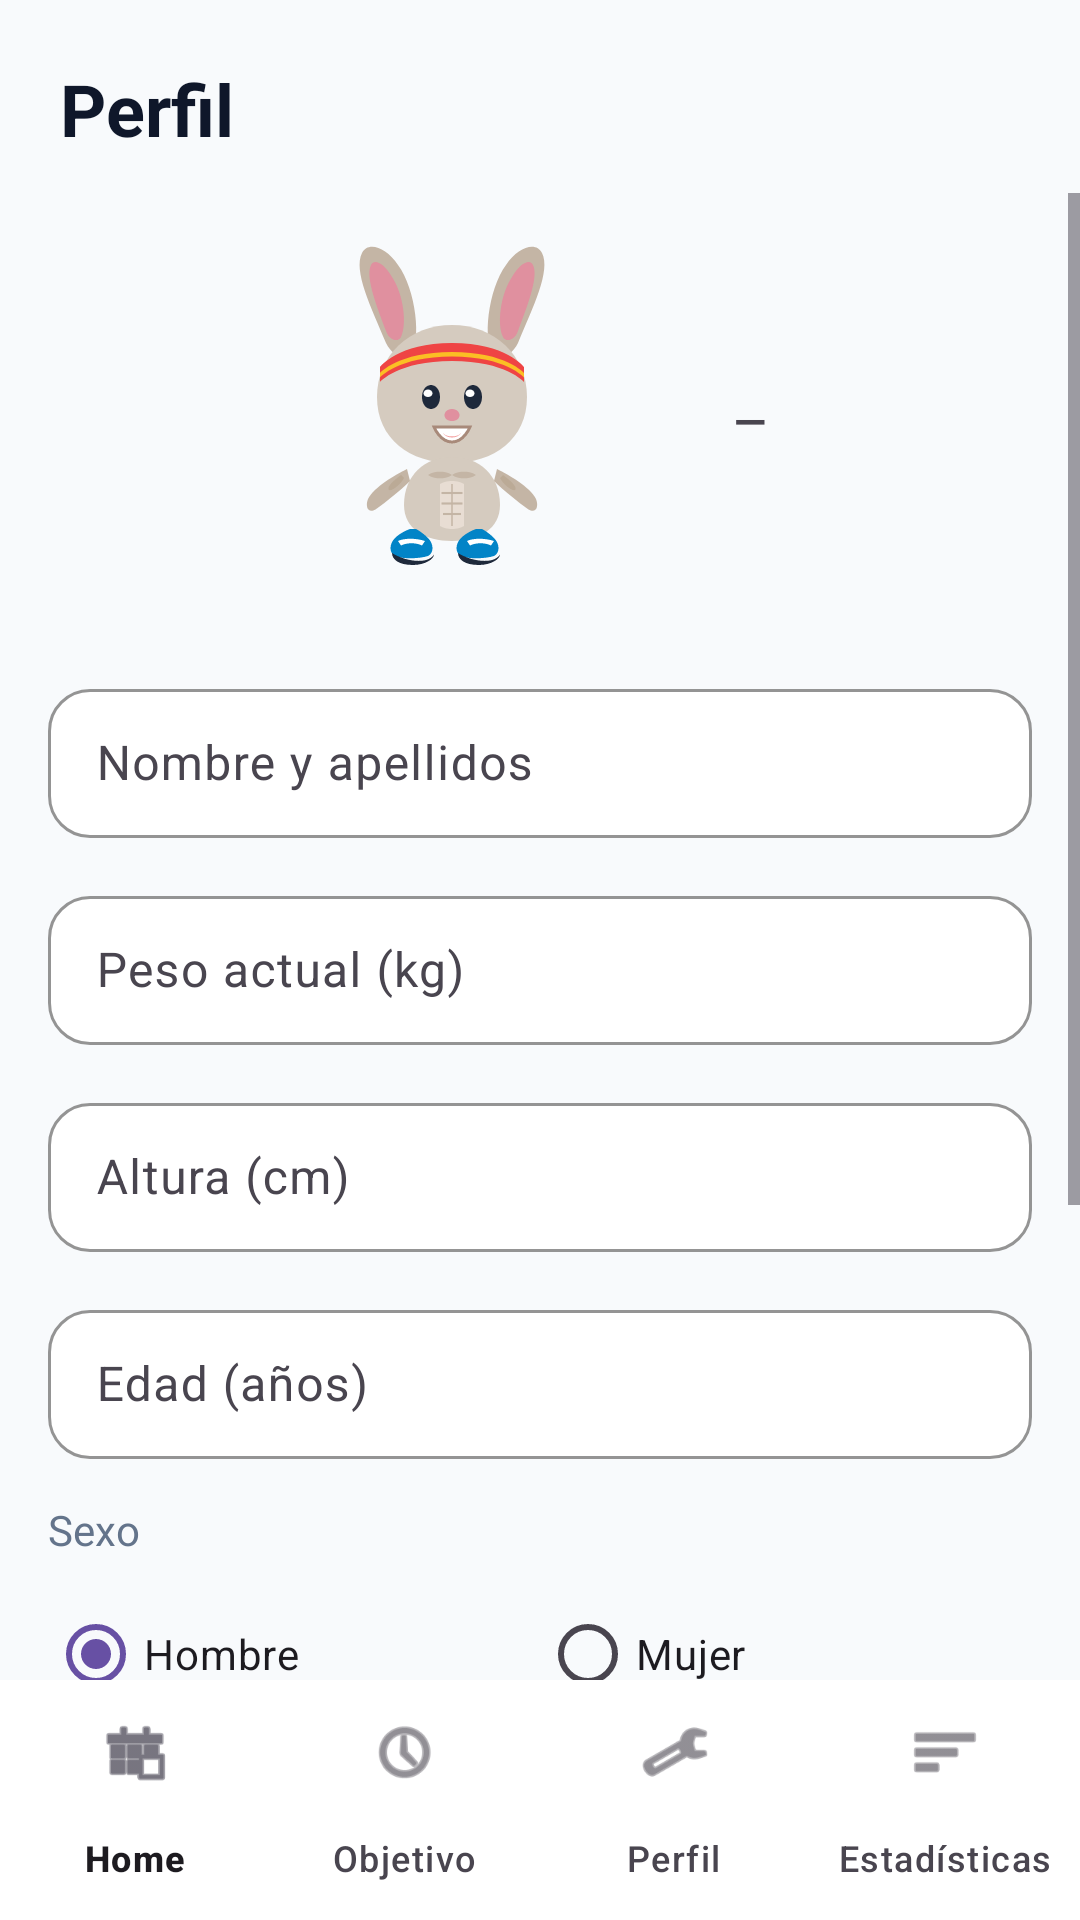

Named icons in this screenshot (1080×1920) and their centers, point (x, y):
bunny fit: point (452, 406)
